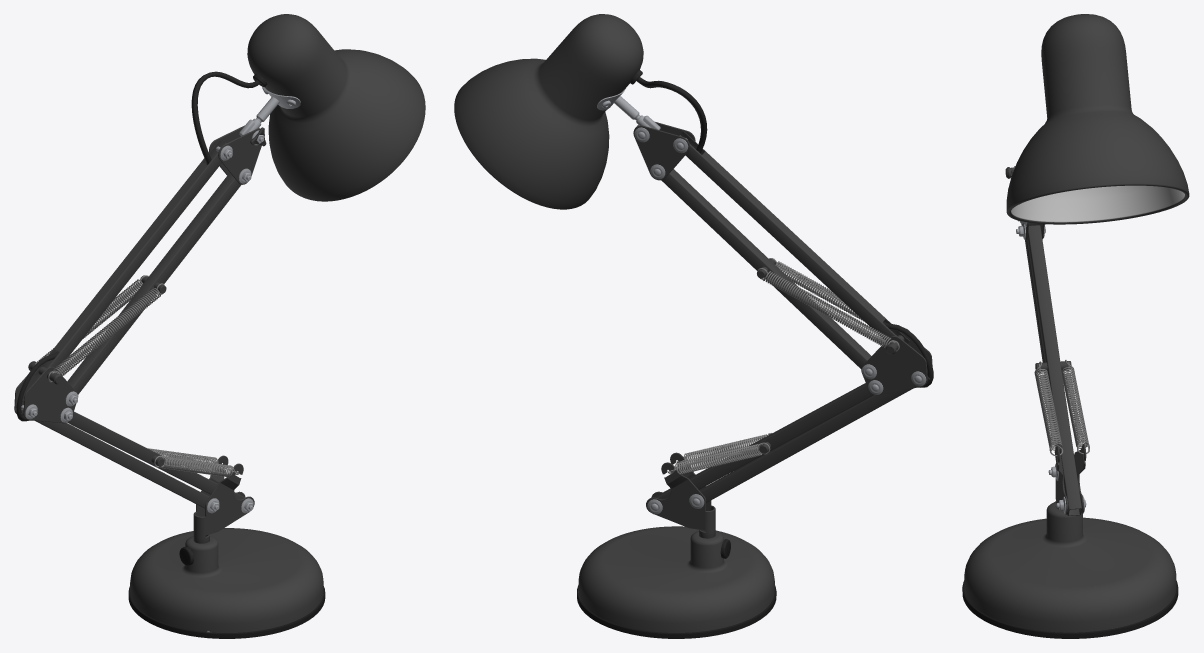
Rendered from lamp_2.glb.
3 views of the same model, side by side, from view 1: azimuth 30°, elevation 25°; view 2: azimuth 150°, elevation 25°; view 3: azimuth 270°, elevation 25° (orthographic). The views are drawn at different scales.
Parts seen in each view (by area): view 1: Object_2, Object_3; view 2: Object_2, Object_3; view 3: Object_2.
Part boxes in pixels (box(x1,y1,x2,y2)): Object_2: box(14, 14, 425, 638); Object_3: box(16, 71, 260, 421); Object_2: box(454, 14, 932, 638); Object_3: box(637, 77, 933, 387); Object_2: box(962, 14, 1189, 638).
Size of the model in its own units: 3.06 by 3.82 by 1.28.
Materials: 3 (1 with a texture image).
